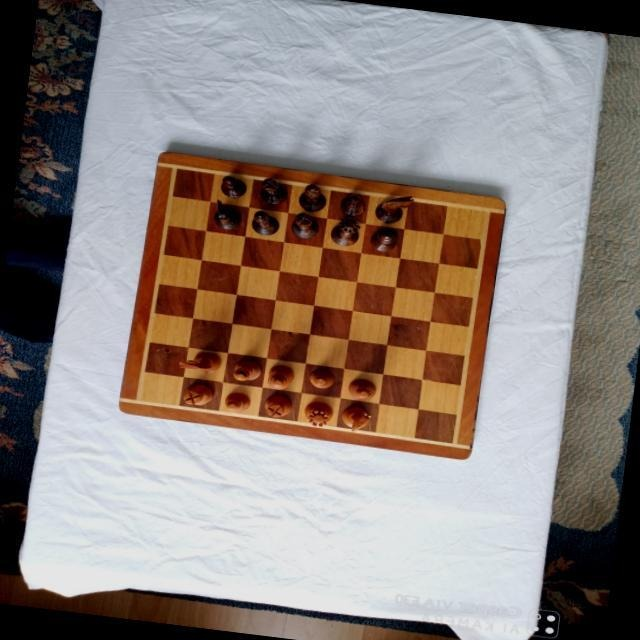black-bishop: (296, 182, 327, 213), (249, 208, 279, 235)
black-king: (369, 225, 399, 252)
black-knight: (372, 191, 413, 225), (210, 197, 242, 230)
black-pawn: (218, 173, 246, 198), (339, 193, 365, 215)
black-queen: (327, 214, 360, 247)
black-rook: (288, 212, 319, 240), (258, 178, 288, 206)
white-bishop: (346, 377, 376, 401), (231, 358, 261, 382)
white-king: (266, 363, 294, 391)
white-knight: (177, 347, 222, 374), (337, 404, 370, 433)
white-pawn: (222, 390, 250, 413), (307, 368, 335, 388)
white-queen: (301, 400, 333, 428)
white-rook: (260, 393, 291, 419), (180, 381, 212, 406)
